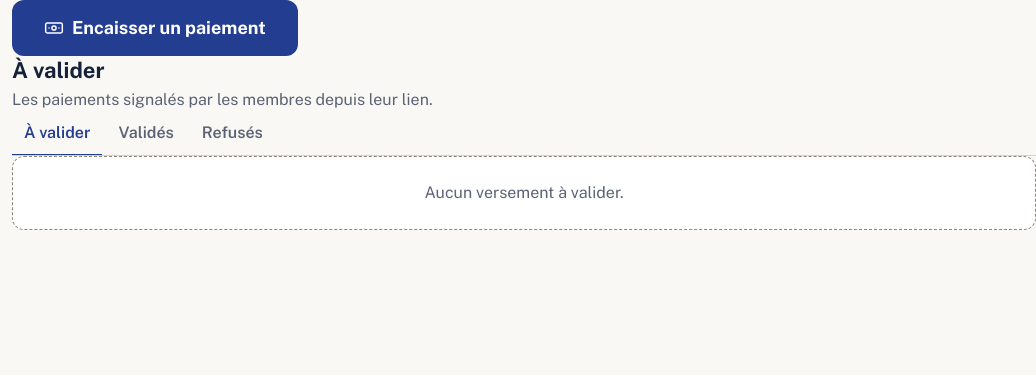
Test: B2 — la file « À valider » › onglet « Validés » : qui a validé, et quand
The image size is (1036, 375).
Expected: the text "Aucun versement à valider." is shown, [12,156,1035,230]
Click the tab "Validés" at (146, 134), box [106,112,186,156]
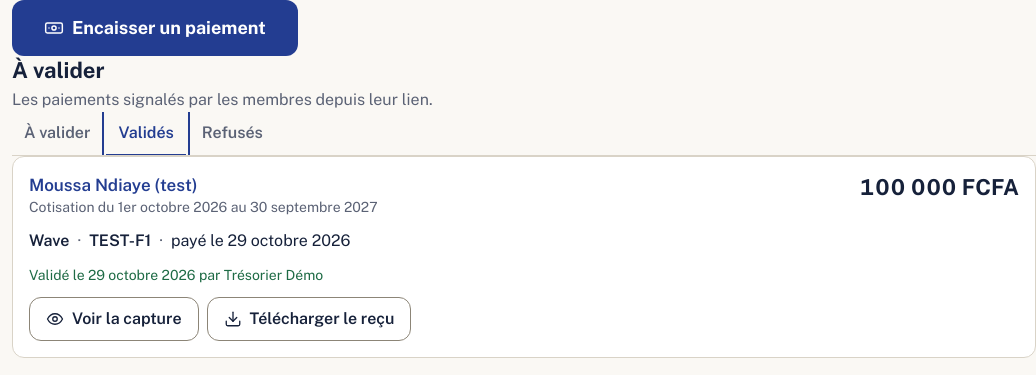
Now the text "Validé le 29 octobre 2026 par Trésorier Démo" is shown, box [29,267,323,283]
Now the button "Télécharger le reçu" is shown, box [207,297,411,341]
